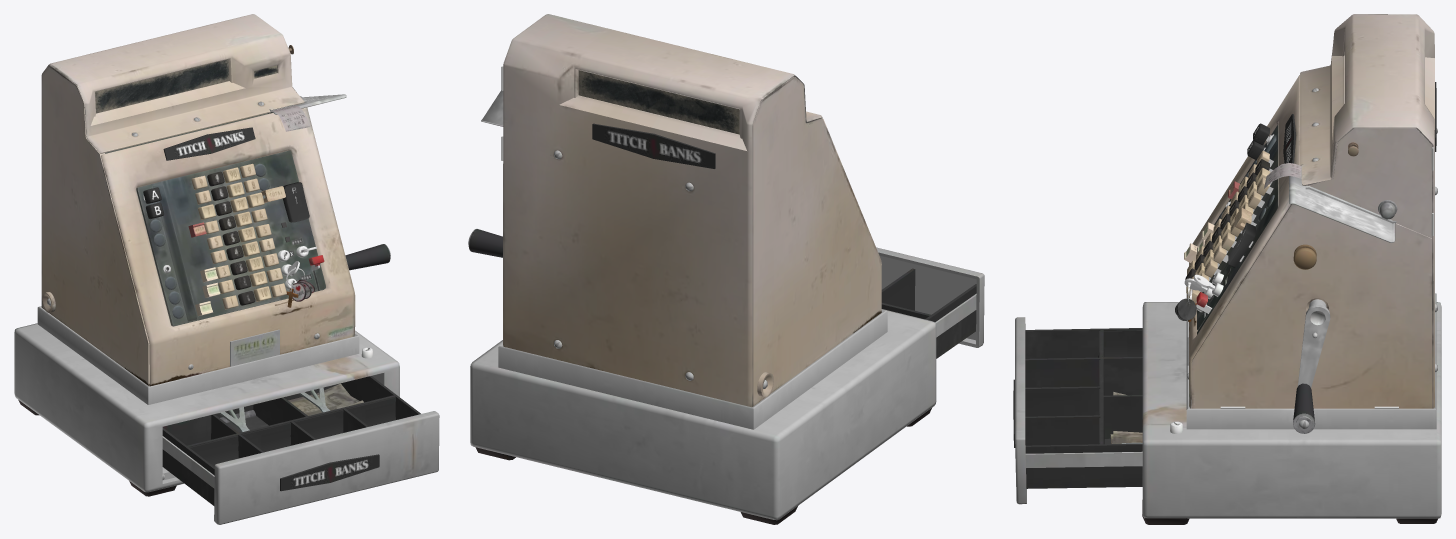
The model's file is CashRegister_01.glb.
The picture shows the model from 3 angles, left to right: view 1: azimuth 30°, elevation 25°; view 2: azimuth 150°, elevation 25°; view 3: azimuth 270°, elevation 25°; orthographic projection. The views are drawn at different scales.
Visible parts, largest first — view 1: CashRegister_01_body; view 2: CashRegister_01_body; view 3: CashRegister_01_body.
Part boxes in pixels (<box>): CashRegister_01_body: <box>14,14,439,524</box>; CashRegister_01_body: <box>468,14,984,524</box>; CashRegister_01_body: <box>1013,14,1441,524</box>.
Bounding box in the file's own units: 0.6005 × 0.6212 × 0.6242.
Materials: 2 (2 with a texture image).
